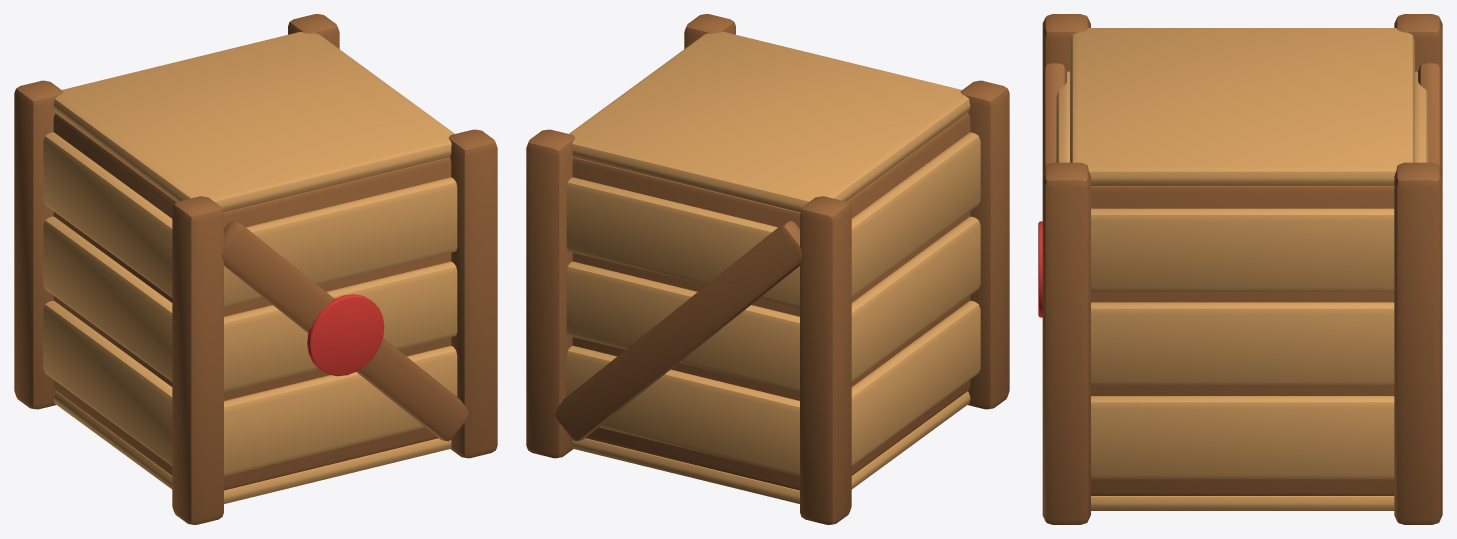
The model's file is BeanCrate.fbx.
The picture shows the model from 3 angles, left to right: view 1: azimuth 30°, elevation 25°; view 2: azimuth 150°, elevation 25°; view 3: azimuth 270°, elevation 25°; orthographic projection. The views are drawn at different scales.
Visible parts, largest first — view 1: Prop_BeanCrate; view 2: Prop_BeanCrate; view 3: Prop_BeanCrate.
Boxes of the visible parts, <box> form: Prop_BeanCrate: <box>14,14,497,524</box>; Prop_BeanCrate: <box>526,14,1009,524</box>; Prop_BeanCrate: <box>1038,14,1442,524</box>.
Size of the model in its own units: 0.58 by 0.56 by 0.586.
